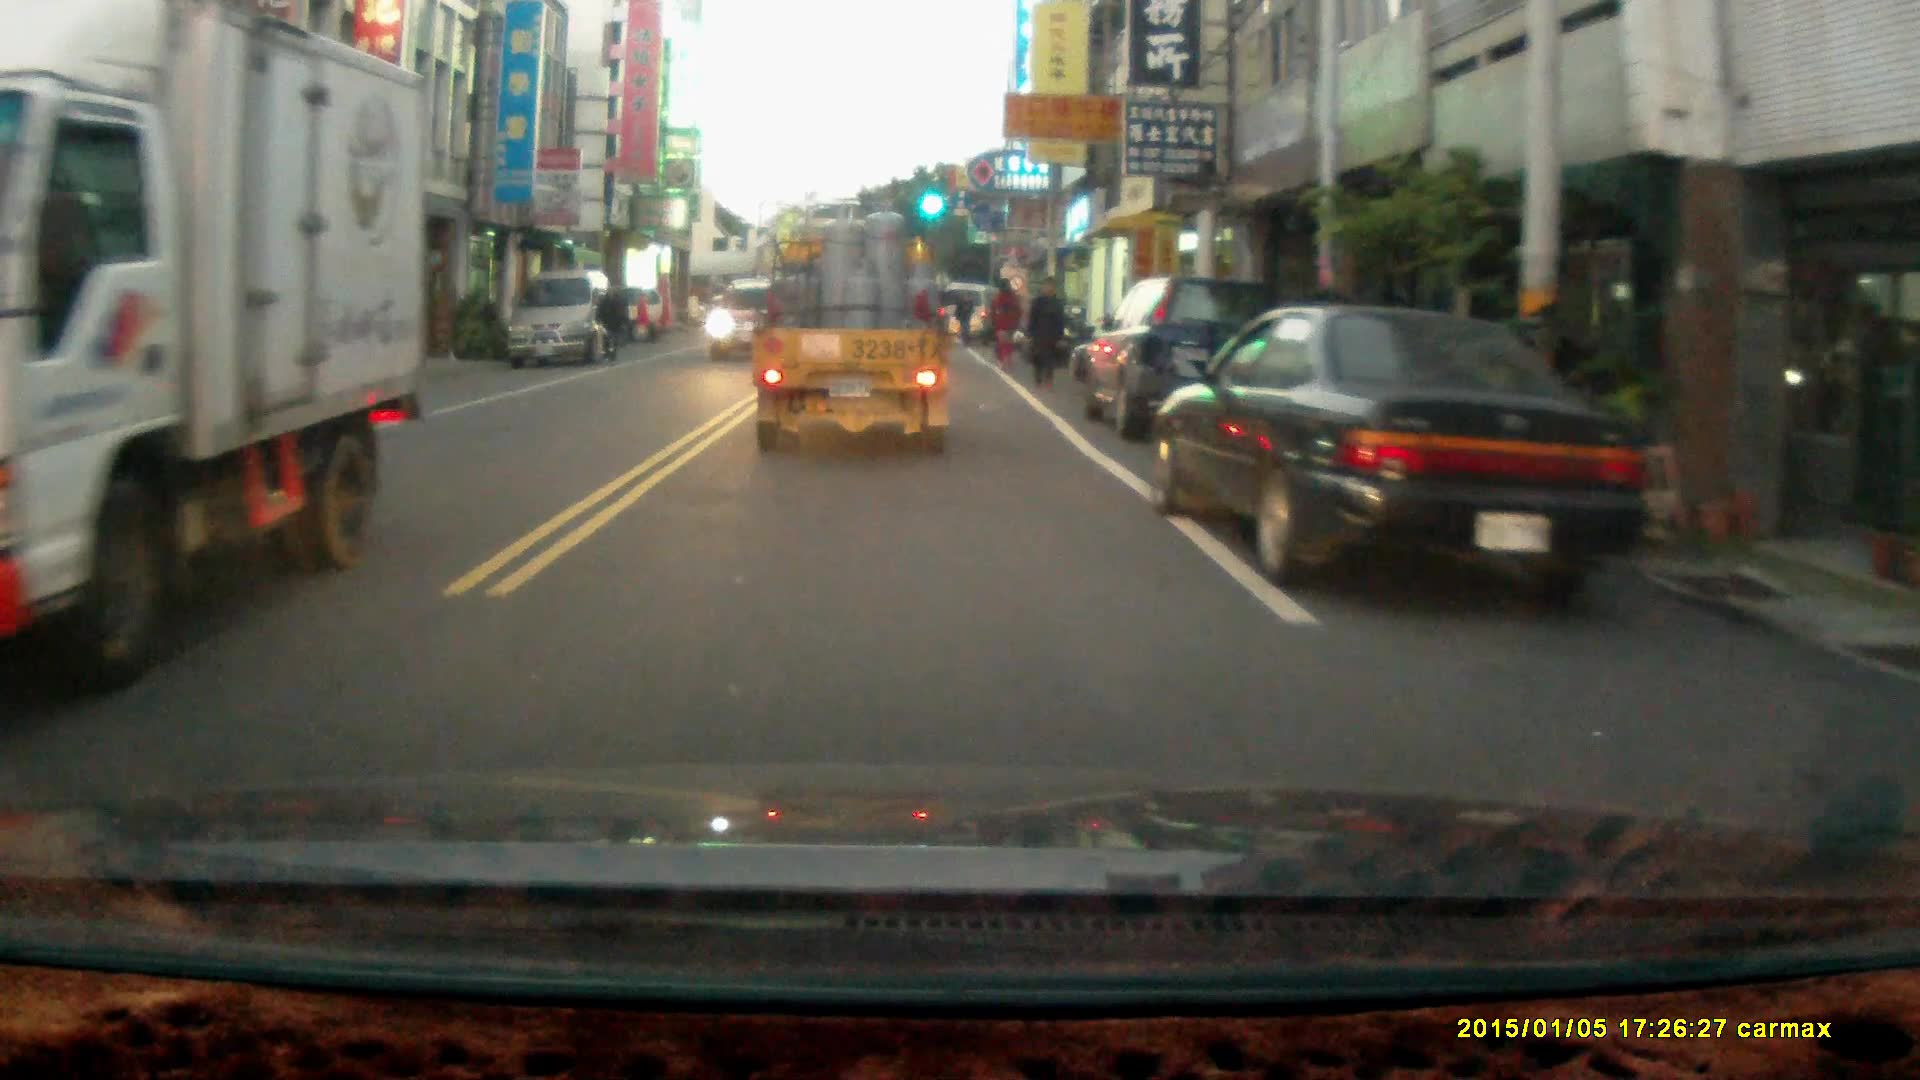pedestrian: (1020, 271, 1065, 392), (984, 278, 1020, 368), (596, 277, 629, 362), (952, 292, 974, 344)
vehicle: (1, 5, 428, 696), (1149, 306, 1657, 595), (746, 191, 959, 463), (1084, 277, 1299, 449), (506, 271, 620, 370), (700, 279, 793, 368)
